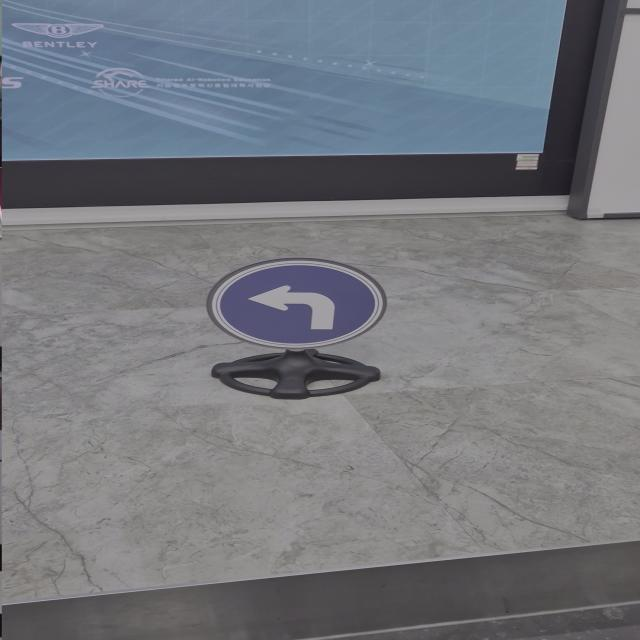left_direction: (203, 247, 395, 351)
